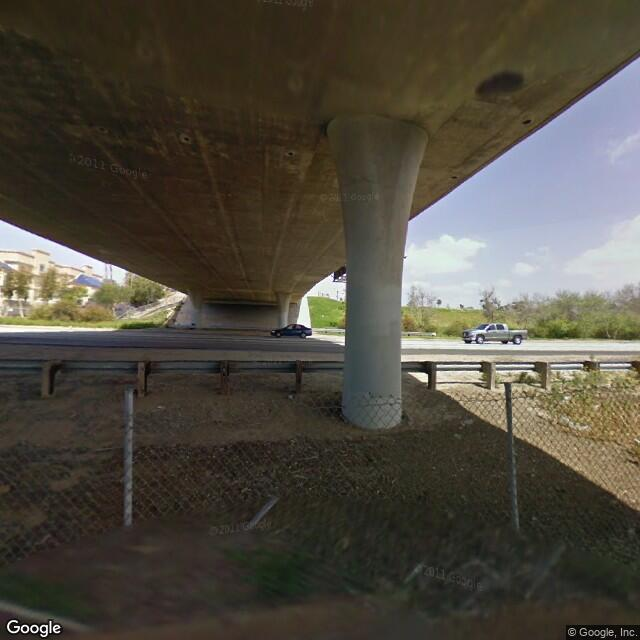litter: (614, 487, 628, 500), (286, 460, 298, 473), (153, 402, 169, 410), (459, 419, 474, 427), (241, 485, 254, 494), (428, 464, 441, 472), (532, 514, 542, 524), (526, 469, 536, 478), (373, 486, 379, 497), (306, 486, 315, 493), (217, 444, 224, 452), (286, 395, 296, 400), (458, 467, 467, 472), (354, 486, 364, 490), (183, 454, 191, 459), (289, 438, 297, 442)
